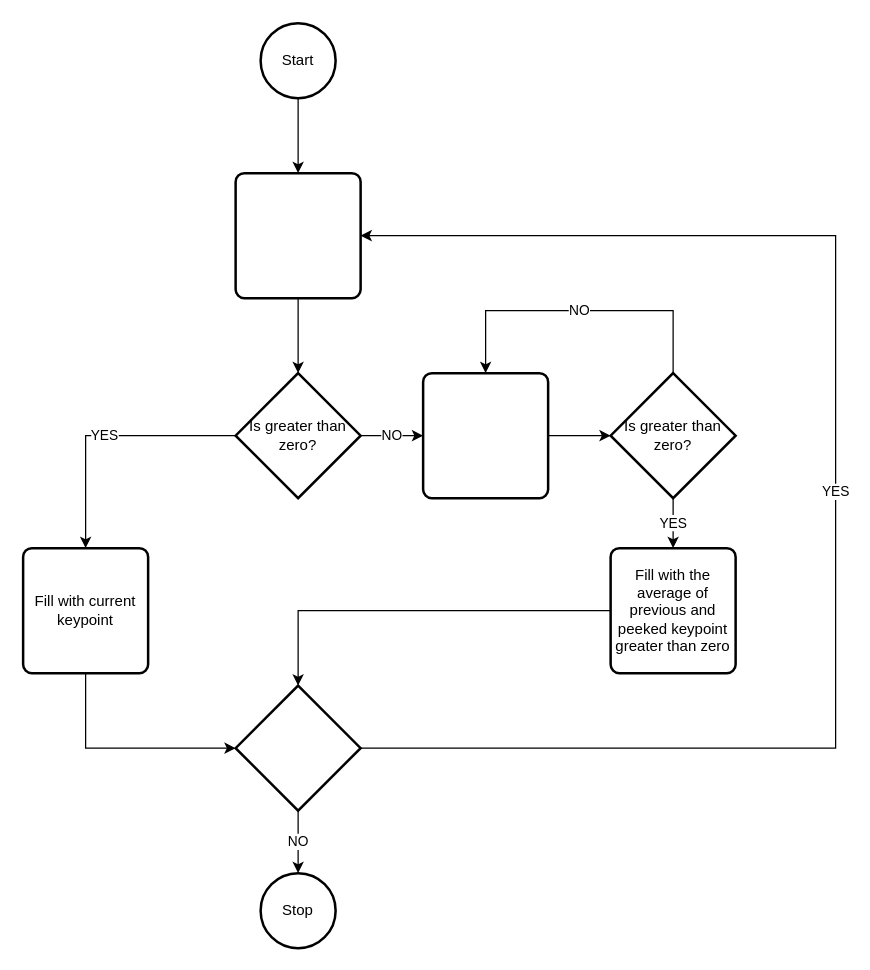
The diagram is 870 pixels wide and 970 high, and some of its shapes have lost their labels. The box of each missing label's shape, as (x1, y1, x2, y2) in pixels:
Are there more keypoints?: (234, 684, 361, 811)
Move index to next frame's keypoint: (234, 171, 361, 299)
Peek at next frame's keypoint: (421, 371, 549, 499)
